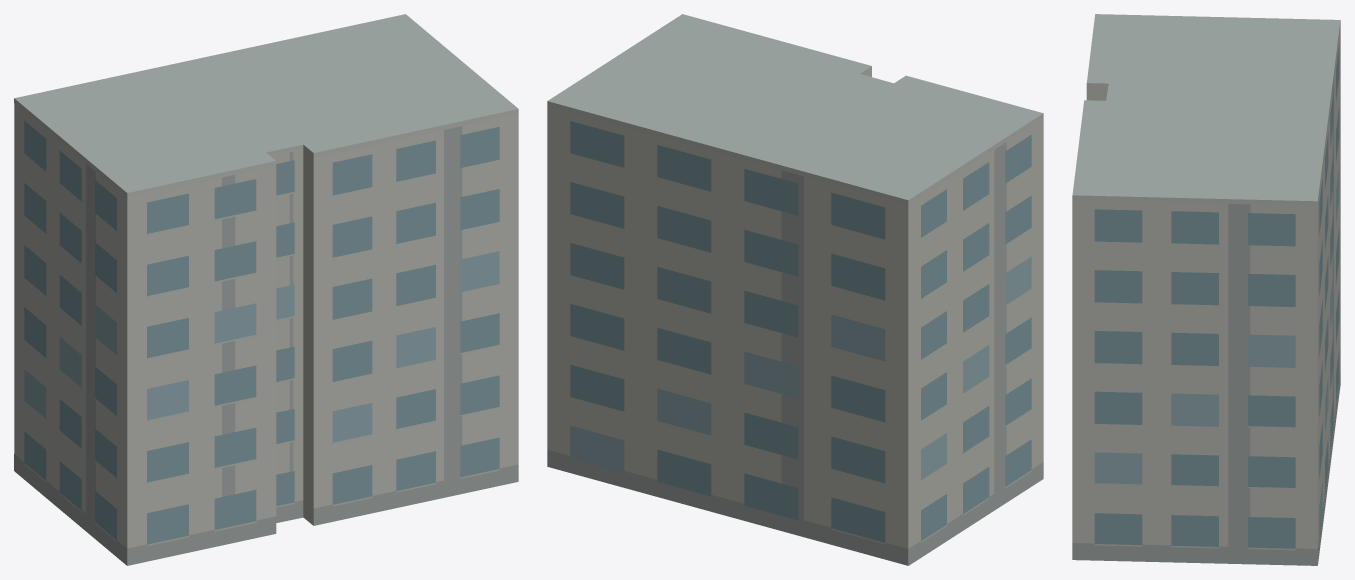
Rendered from survey-upis-32552478.glb.
The picture shows the model from 3 angles, left to right: view 1: azimuth 30°, elevation 25°; view 2: azimuth 150°, elevation 25°; view 3: azimuth 270°, elevation 25°; orthographic projection. The views are drawn at different scales.
Parts seen in each view (by area): view 1: survey-upis-32552478.tmp; view 2: survey-upis-32552478.tmp; view 3: survey-upis-32552478.tmp.
Part boxes in pixels (x1,y1,x2,y2): survey-upis-32552478.tmp: (14,14,518,565); survey-upis-32552478.tmp: (547,14,1043,565); survey-upis-32552478.tmp: (1072,14,1340,565).
Bounding box in the file's own units: 20.16 × 18.3 × 12.2.
